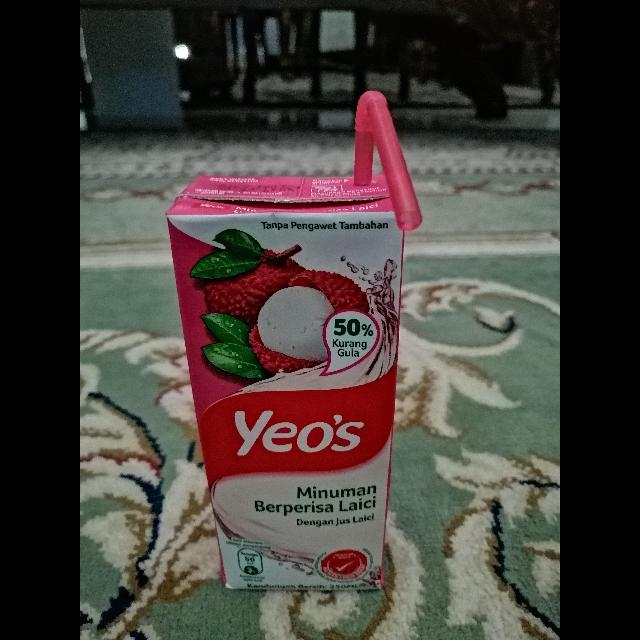caixinha: (166, 172, 402, 600)
